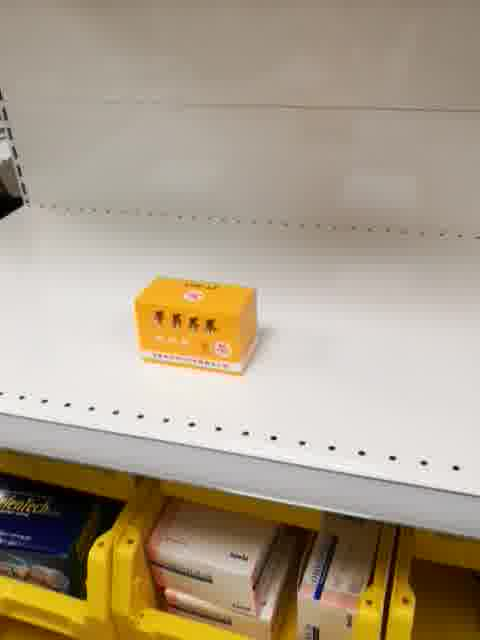jasminetea: (133, 275, 261, 377)
